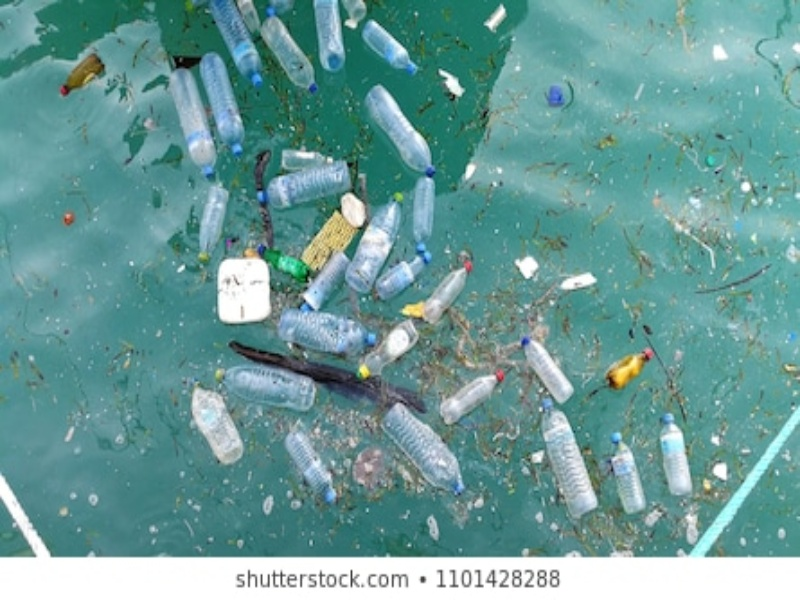plastic-bottle: (531, 400, 610, 521), (378, 401, 474, 497), (364, 84, 445, 175), (345, 191, 410, 291), (165, 67, 223, 177), (253, 13, 327, 95), (182, 378, 248, 467), (200, 43, 249, 156), (206, 1, 267, 89), (277, 301, 379, 353), (601, 427, 659, 514), (283, 429, 351, 502), (515, 335, 589, 402), (256, 162, 354, 211), (213, 364, 315, 404), (357, 317, 419, 382), (656, 411, 699, 499), (436, 369, 506, 423), (294, 250, 354, 313), (356, 20, 420, 78), (194, 183, 233, 267), (426, 263, 477, 323), (379, 245, 436, 298), (279, 143, 339, 171)
straw: (670, 214, 719, 270)
